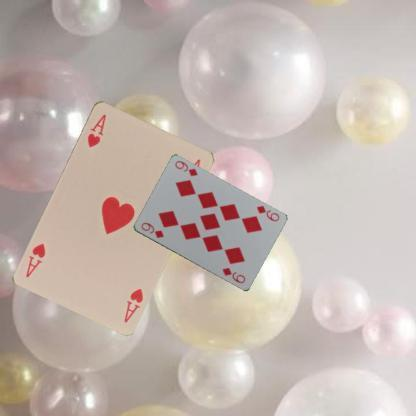9d: (138, 219, 165, 240), (254, 202, 281, 223)
Ah: (84, 111, 108, 148), (121, 286, 144, 324)
